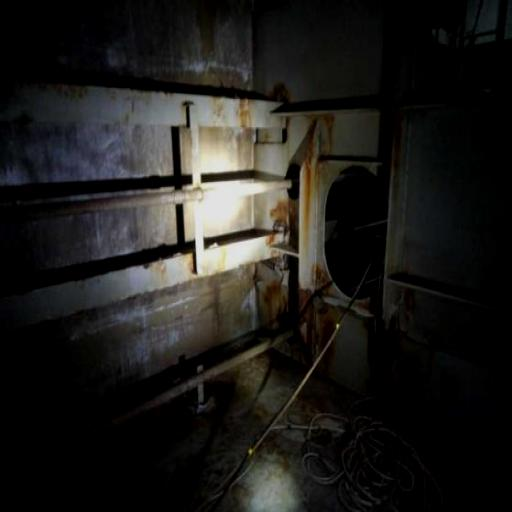Detect-rust-on-metal-surfaces: (362, 281, 439, 437), (243, 266, 344, 374), (297, 113, 366, 257), (262, 203, 298, 241), (385, 111, 404, 180), (260, 78, 291, 110), (234, 94, 261, 130)
